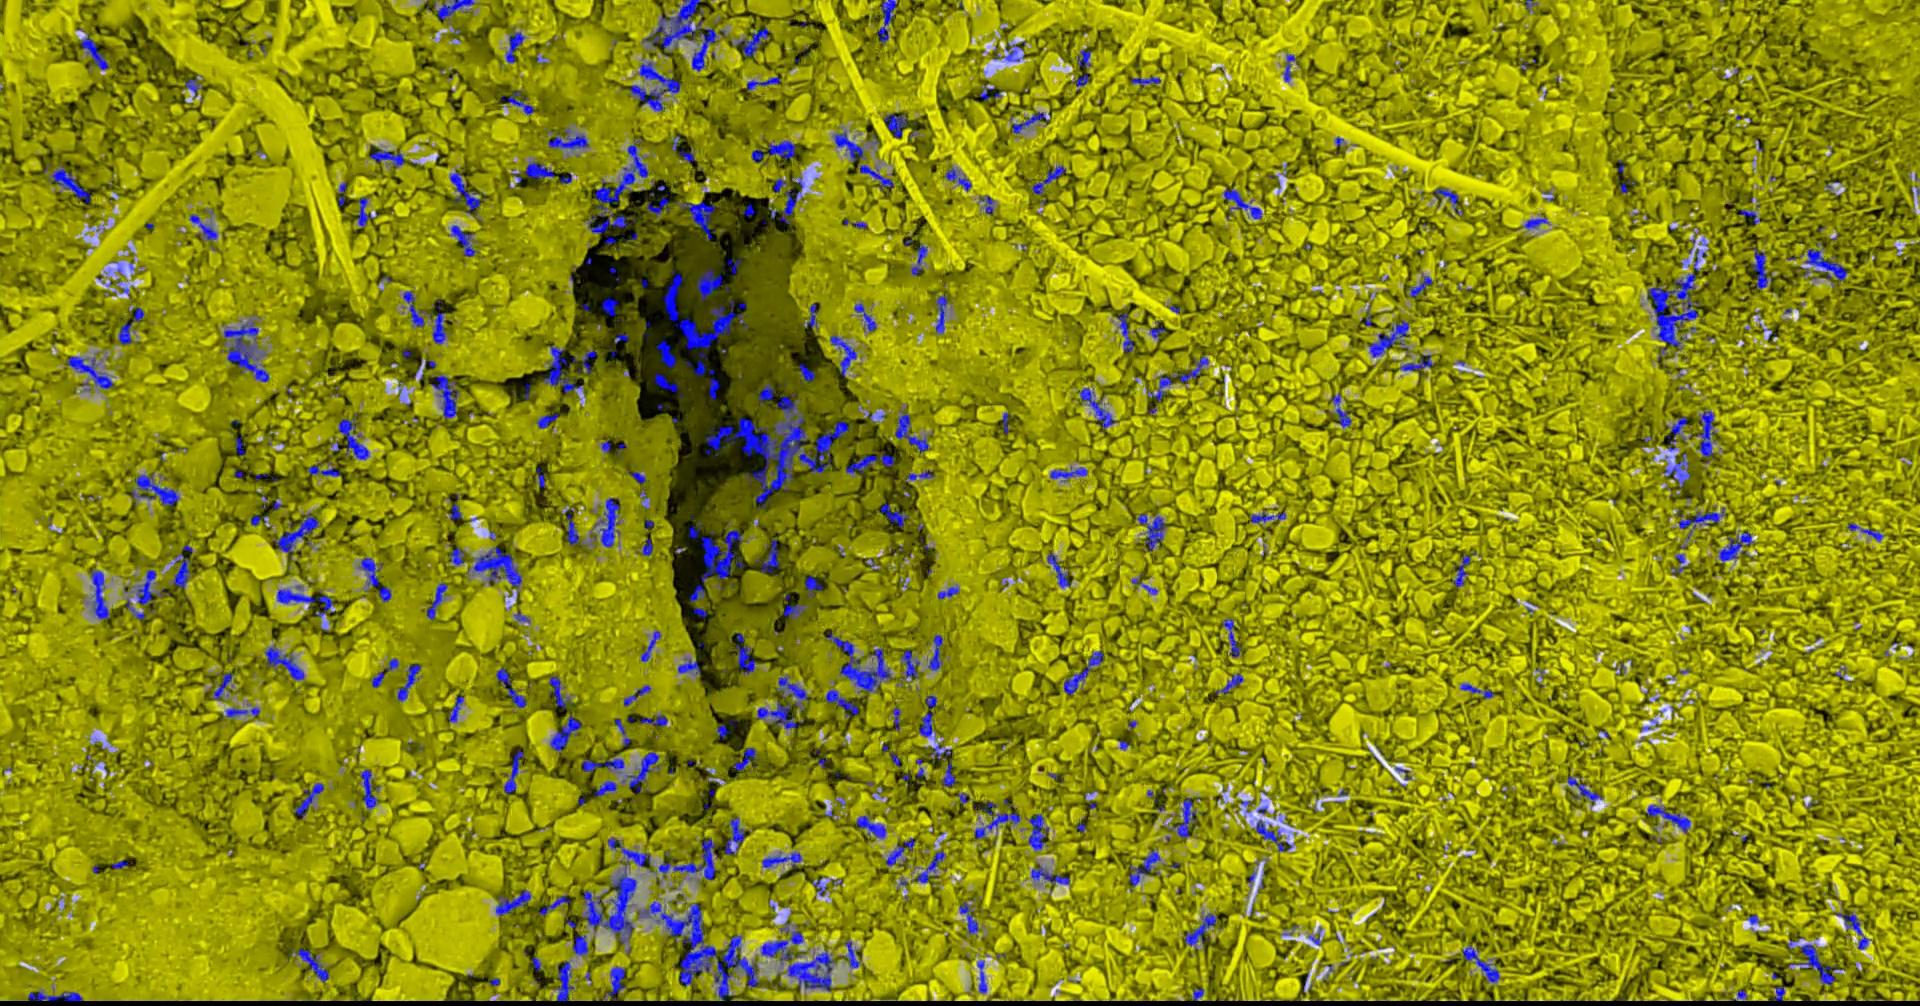ant: (467, 546, 521, 598), (649, 837, 715, 879), (223, 321, 269, 381), (756, 676, 808, 728), (629, 61, 681, 111), (1787, 944, 1843, 984), (783, 949, 834, 989), (273, 512, 317, 558), (541, 345, 582, 392), (1680, 409, 1716, 462), (759, 918, 803, 962), (971, 801, 1018, 840), (1063, 650, 1103, 694), (276, 586, 333, 616), (47, 165, 90, 203), (621, 751, 660, 791), (66, 354, 113, 387), (131, 473, 178, 506), (676, 199, 714, 240), (1368, 320, 1408, 357), (1799, 248, 1846, 279), (1677, 507, 1724, 539), (1079, 387, 1115, 428), (894, 409, 928, 451), (338, 412, 368, 459), (358, 558, 391, 601), (1834, 912, 1870, 949), (1462, 945, 1498, 982), (264, 645, 303, 680), (1170, 796, 1203, 837), (593, 497, 620, 546), (450, 171, 480, 213), (290, 948, 328, 981), (430, 373, 458, 418), (1646, 804, 1690, 832), (495, 667, 526, 708), (136, 569, 170, 605), (1128, 848, 1159, 887), (549, 714, 582, 749), (1183, 913, 1217, 949), (1255, 819, 1291, 851), (1223, 188, 1261, 218), (1137, 513, 1167, 551), (778, 177, 803, 224), (1030, 862, 1069, 890), (734, 25, 768, 57), (1567, 775, 1603, 805), (829, 335, 856, 375), (833, 130, 865, 163), (910, 850, 943, 882), (731, 633, 756, 674), (1031, 165, 1065, 194), (1718, 531, 1752, 560), (295, 782, 323, 818), (724, 815, 749, 854), (844, 453, 894, 473), (90, 569, 109, 619), (118, 307, 143, 344), (503, 749, 524, 793), (1175, 354, 1208, 382), (825, 688, 858, 716), (396, 663, 420, 701), (858, 164, 893, 191), (80, 37, 108, 69), (696, 268, 723, 301), (1663, 453, 1690, 486), (495, 889, 530, 915), (1431, 187, 1462, 215), (1751, 246, 1771, 288), (171, 545, 190, 589), (1046, 553, 1070, 587), (885, 837, 914, 865), (368, 144, 404, 166), (450, 225, 475, 257), (565, 506, 585, 545), (877, 0, 897, 42), (502, 90, 535, 114), (403, 290, 424, 326), (425, 582, 447, 619), (1011, 111, 1045, 133), (549, 674, 571, 709), (188, 213, 217, 240), (436, 0, 474, 20), (547, 130, 588, 149), (554, 960, 573, 1001), (756, 539, 778, 572), (601, 967, 623, 1000), (359, 768, 378, 808), (1330, 392, 1351, 427), (1222, 619, 1241, 657), (918, 695, 936, 735), (1666, 417, 1688, 450), (1145, 373, 1171, 401), (879, 502, 908, 526), (1029, 813, 1048, 850), (855, 815, 885, 838), (1848, 522, 1883, 541), (943, 166, 971, 191), (1399, 354, 1432, 375), (761, 851, 801, 868), (959, 901, 978, 935), (1116, 312, 1133, 352), (538, 894, 570, 915), (883, 111, 907, 137), (670, 135, 695, 161), (582, 756, 623, 771), (430, 298, 444, 343), (640, 630, 660, 661), (731, 747, 758, 770), (505, 30, 524, 62), (992, 42, 1023, 61), (853, 304, 875, 332), (655, 339, 676, 368), (212, 671, 232, 700), (1453, 554, 1470, 587), (926, 634, 942, 669), (356, 197, 375, 227), (1049, 466, 1087, 481), (782, 593, 805, 619), (900, 648, 919, 678), (124, 598, 152, 619), (1215, 673, 1243, 694), (838, 939, 858, 967), (27, 991, 83, 1001), (646, 193, 669, 217), (910, 243, 927, 276), (623, 685, 650, 705), (306, 461, 340, 476), (1459, 683, 1493, 699), (1408, 276, 1432, 297), (767, 140, 796, 158), (524, 160, 554, 178), (653, 372, 677, 392), (935, 295, 947, 333), (745, 76, 780, 90), (613, 718, 630, 746), (577, 349, 596, 373), (1250, 511, 1285, 523), (536, 412, 563, 428), (448, 694, 463, 721), (1131, 578, 1157, 594), (592, 780, 617, 796), (978, 83, 1001, 100), (930, 742, 952, 760), (184, 75, 202, 97), (804, 575, 822, 597), (1671, 553, 1688, 575), (677, 658, 700, 674), (941, 761, 955, 788), (1283, 53, 1295, 83), (571, 934, 588, 955), (639, 714, 667, 727), (758, 382, 773, 405), (225, 706, 259, 716), (803, 304, 817, 328), (601, 296, 617, 316), (447, 546, 463, 565), (1130, 76, 1161, 86), (1521, 216, 1548, 227), (1738, 210, 1760, 224), (797, 363, 814, 381), (1076, 48, 1091, 67), (1149, 320, 1164, 339), (977, 960, 985, 992), (937, 586, 959, 598), (1768, 984, 1784, 1001), (1073, 72, 1088, 90), (979, 196, 994, 213), (811, 876, 825, 895), (905, 470, 935, 479), (726, 257, 742, 273), (370, 671, 383, 687), (842, 218, 867, 227), (627, 471, 646, 483), (337, 180, 345, 205), (750, 149, 764, 164), (715, 724, 729, 739), (450, 503, 461, 521), (891, 708, 900, 730), (772, 178, 786, 192), (535, 467, 545, 486), (641, 537, 651, 555), (250, 514, 267, 525), (1001, 412, 1008, 433), (385, 658, 397, 671), (235, 437, 244, 455), (743, 203, 754, 216), (1190, 988, 1203, 1000)
